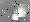person: (20, 5, 30, 17), (13, 12, 19, 20)
